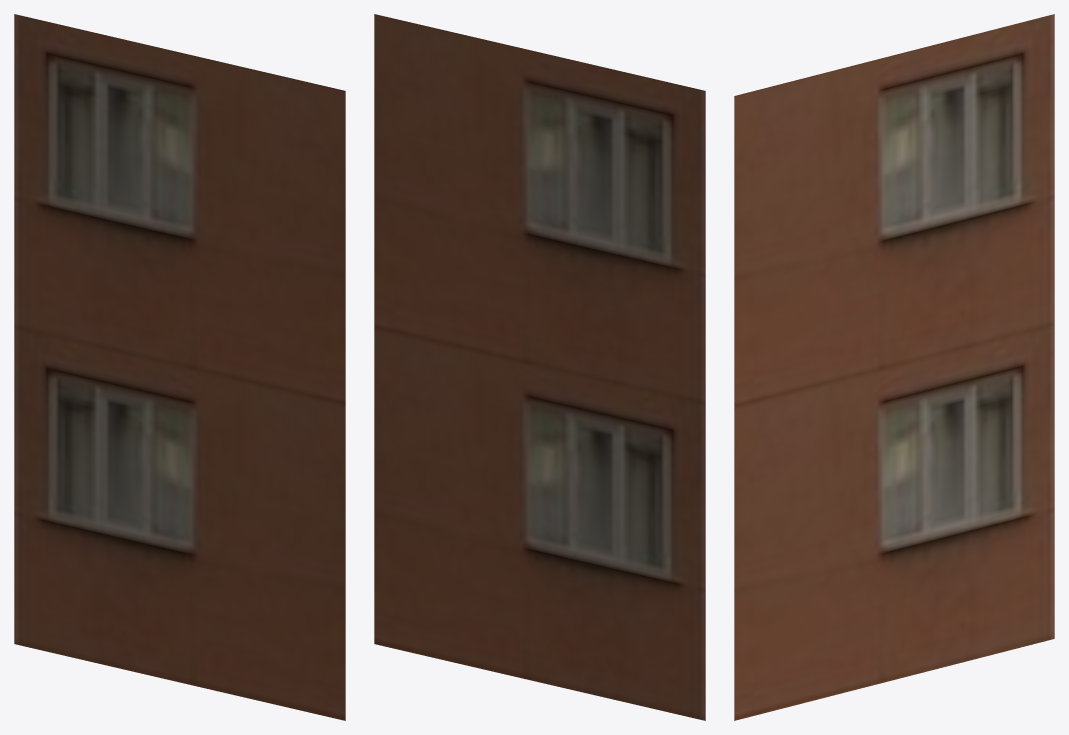
The model's file is ResTex__4212.fbx.
3 renders of one model, left to right at view 1: azimuth 30°, elevation 25°; view 2: azimuth 210°, elevation 25°; view 3: azimuth 270°, elevation 25°, orthographic.
Visible parts, largest first — view 1: CityEngineMaterial_20_m; view 2: CityEngineMaterial_20_m; view 3: CityEngineMaterial_20_m.
Boxes of the visible parts, x1,y1,x2,y2 form: CityEngineMaterial_20_m: (14,14,345,720); CityEngineMaterial_20_m: (374,14,705,720); CityEngineMaterial_20_m: (734,14,1054,720).
Bounding box in the file's own units: 1.69 × 6 × 2.79.
Materials: 1 (1 with a texture image).
